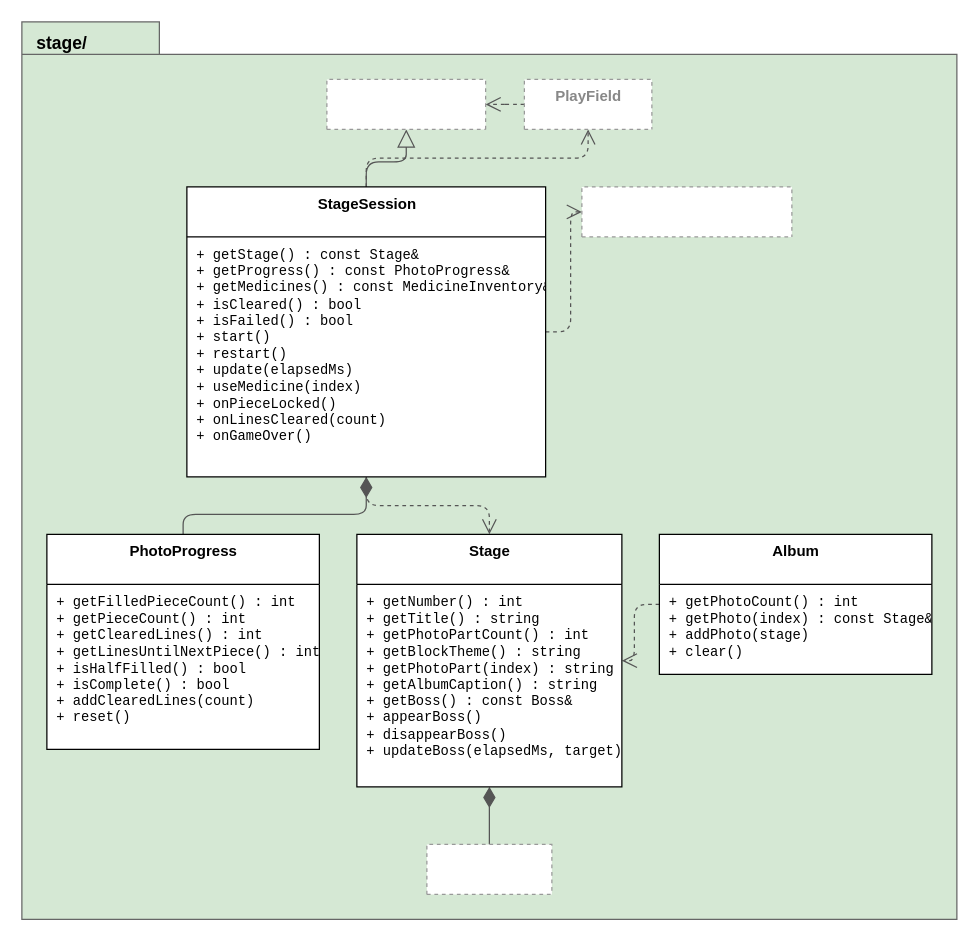
Image size: 979x941. Some labels were removed from this diagram. The centre of each missing label's shape, as x and y in pixels:
Boss: (x=489, y=868)
MedicineInventory: (x=686, y=211)
PlayListener: (x=406, y=103)
